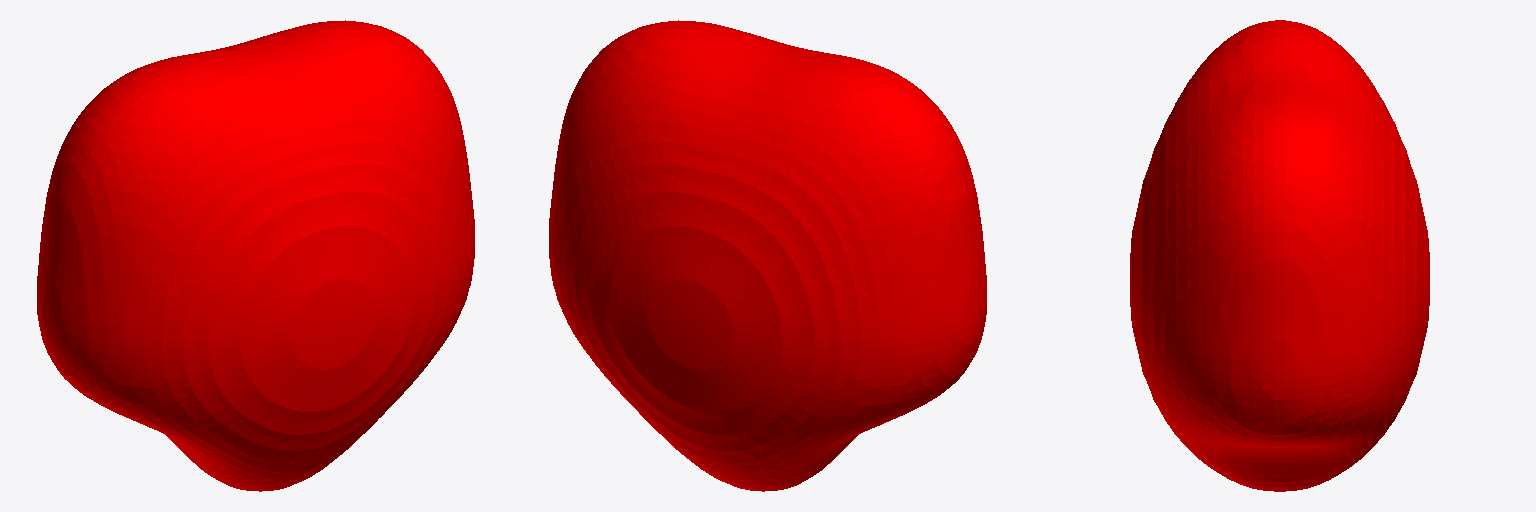
URDF robot description (heart):
<?xml version="1.0"?>
<robot name="heart">
  <link name="base_link">
    <inertial>
      <mass value="5.0"/>
      <origin xyz="0 0 0" rpy="0 0 0"/>
      <inertia ixx="0.1" ixy="0" ixz="0" iyy="0.1" iyz="0" izz="0.1"/>
    </inertial>
    <visual>
      <origin xyz="0 0 0" rpy="1.57 0 0"/>
      <geometry>
        <mesh filename="heart2_3.stl" scale="1 1 1"/>
      </geometry>
      <material name="red">
        <color rgba="1 0 0 1"/>
      </material>
    </visual>
    <collision>
      <origin xyz="0 0 0" rpy="1.57 0 0"/>
      <geometry>
        <mesh filename="heart2_3.stl" scale="1 1 1"/>
      </geometry>
    </collision>
  </link>
</robot>

--- Render facts (derived) ---
Views: 3 orthographic renders of the robot side by side, from view 1: azimuth 30°, elevation 25°; view 2: azimuth 150°, elevation 25°; view 3: azimuth 270°, elevation 25°.
Robot: heart — 1 links, 0 joints (none); root link base_link; default pose: all joints at 0.
Visible links, largest first — view 1: base_link; view 2: base_link; view 3: base_link.
Link boxes in pixels (x1=…): base_link: x1=37, y1=20, x2=474, y2=491; base_link: x1=549, y1=20, x2=986, y2=491; base_link: x1=1130, y1=20, x2=1429, y2=491.
Bounding box of the posed robot: 0.4974 × 0.3304 × 0.5038 m (x, y, z).
Meshes: 1 distinct files referenced, 1 mesh visuals loaded (1 binary STL).